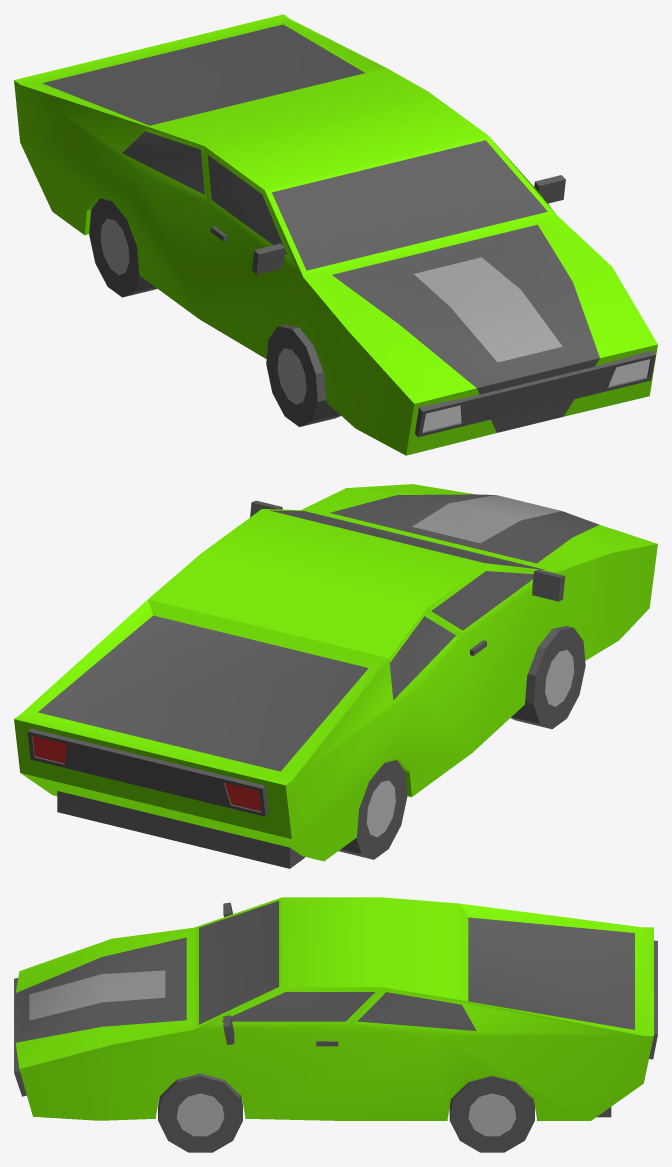
File: SM_Car_05_04.FBX
3 views of the same model, one above another, from view 1: azimuth 30°, elevation 25°; view 2: azimuth 150°, elevation 25°; view 3: azimuth 270°, elevation 25° (orthographic). The views are drawn at different scales.
Parts seen in each view (by area): view 1: SM_Car_05_04, SM_Wheel_LFront002, SM_Wheel_RBack001; view 2: SM_Car_05_04, SM_Wheel_LFront002, SM_Wheel_RBack001; view 3: SM_Car_05_04, SM_Wheel_LFront001, SM_Wheel_LBack001.
Part boxes in pixels (x1=…): SM_Car_05_04: x1=14, y1=14, x2=657, y2=455; SM_Wheel_LFront002: x1=266, y1=324, x2=340, y2=426; SM_Wheel_RBack001: x1=89, y1=198, x2=157, y2=297; SM_Car_05_04: x1=14, y1=484, x2=657, y2=868; SM_Wheel_LFront002: x1=510, y1=626, x2=585, y2=729; SM_Wheel_RBack001: x1=338, y1=760, x2=407, y2=859; SM_Car_05_04: x1=14, y1=897, x2=657, y2=1120; SM_Wheel_LFront001: x1=158, y1=1073, x2=242, y2=1152; SM_Wheel_LBack001: x1=449, y1=1075, x2=534, y2=1152.
Bounding box in the file's own units: 1.7 × 1 × 3.74.
Materials: 1 (1 with a texture image).
